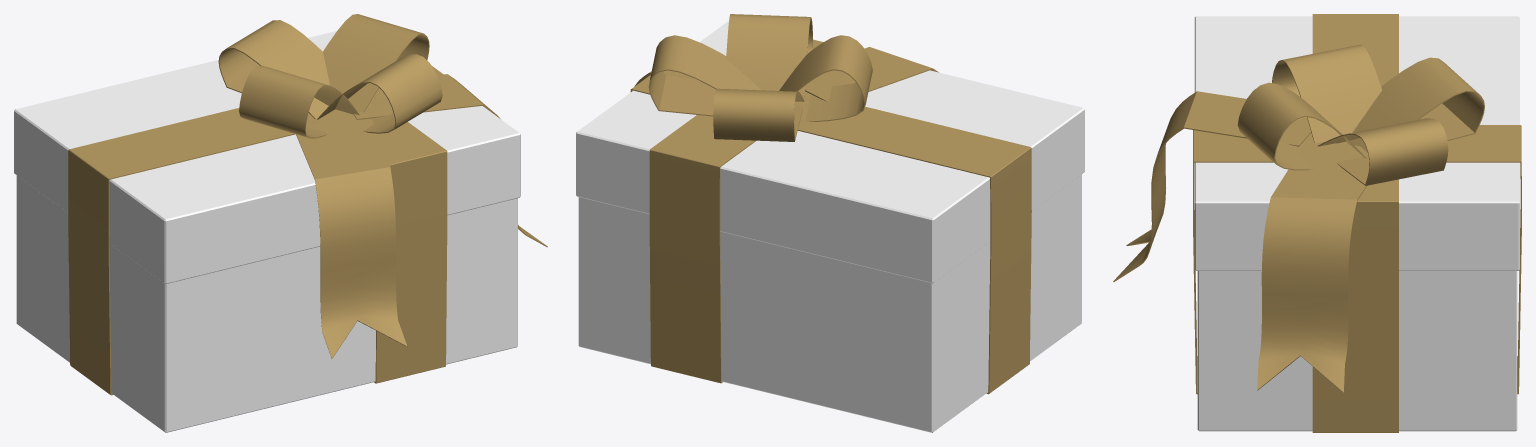
3 renders of one model, left to right at view 1: azimuth 30°, elevation 25°; view 2: azimuth 150°, elevation 25°; view 3: azimuth 270°, elevation 25°, orthographic. The views are drawn at different scales.
Parts seen in each view (by area): view 1: bbf950688bbeefa6b4515267f3faa6d05cbcf3c5 > > root > (×2); view 2: bbf950688bbeefa6b4515267f3faa6d05cbcf3c5 > > root > (×2); view 3: bbf950688bbeefa6b4515267f3faa6d05cbcf3c5 > > root > (×2).
Part boxes in pixels (left/top/right/bottom): bbf950688bbeefa6b4515267f3faa6d05cbcf3c5 > > root > (×2): left=14, top=14, right=547, bottom=432; bbf950688bbeefa6b4515267f3faa6d05cbcf3c5 > > root > (×2): left=576, top=14, right=1084, bottom=432; bbf950688bbeefa6b4515267f3faa6d05cbcf3c5 > > root > (×2): left=1113, top=14, right=1521, bottom=432.
Bounding box in the file's own units: 0.3702 × 0.2286 × 0.2924.
